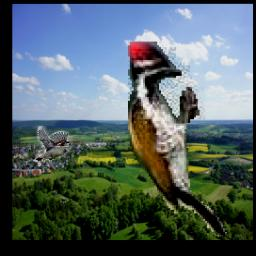Sparrow: (35, 126, 72, 166)
Woodpecker: (128, 42, 228, 238)
